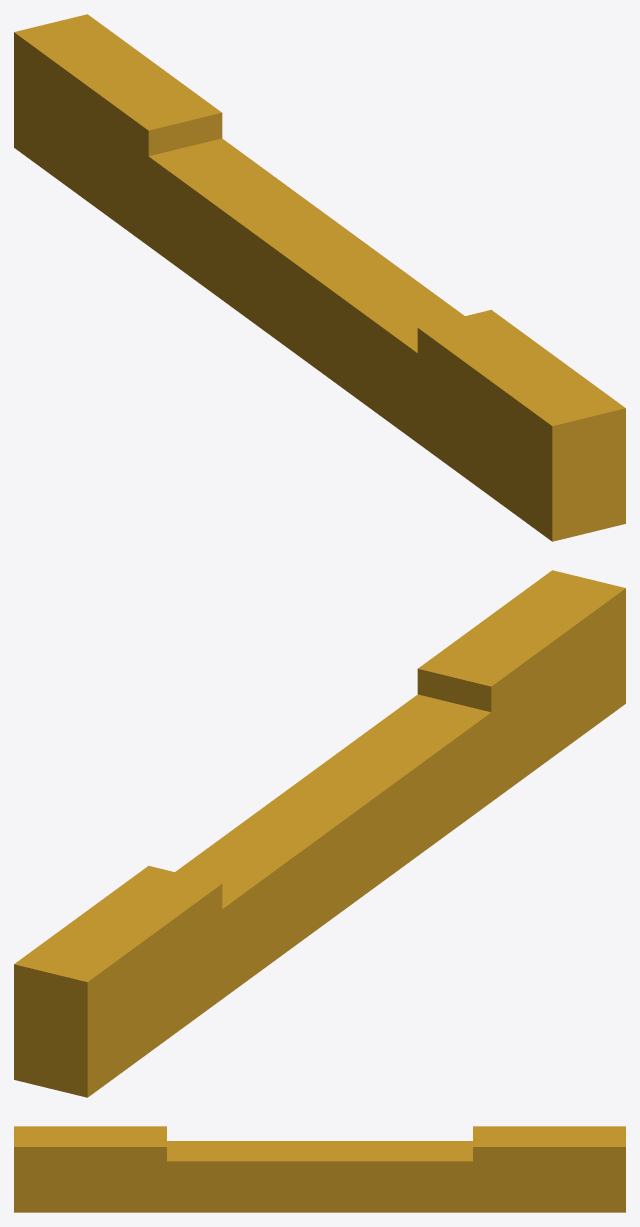
The model's file is log_trailer_bolster.glb.
The picture shows the model from 3 angles, top to bottom: view 1: azimuth 30°, elevation 25°; view 2: azimuth 150°, elevation 25°; view 3: azimuth 270°, elevation 25°; orthographic projection. The views are drawn at different scales.
Visible parts, largest first — view 1: body:compound; view 2: body:compound; view 3: body:compound.
Part boxes in pixels (<box>): body:compound: <box>14,14,625,541</box>; body:compound: <box>14,570,625,1097</box>; body:compound: <box>14,1126,625,1212</box>.
Size of the model in its own units: 0.1875 by 0.2812 by 2.38.
